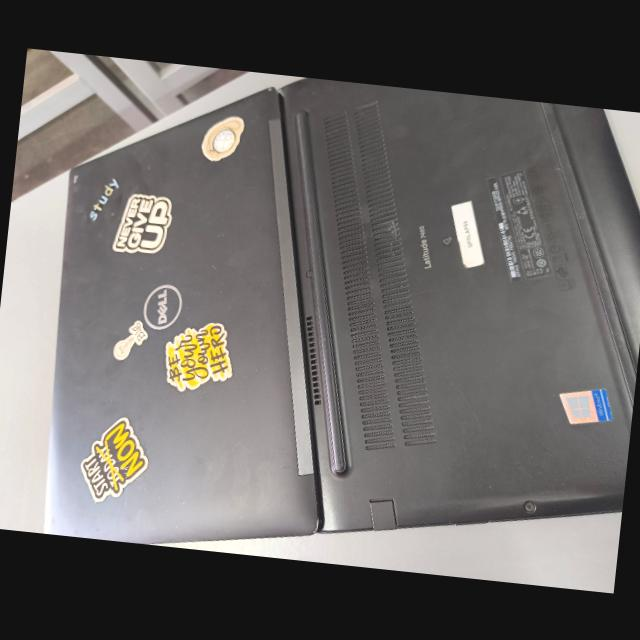laptop: (3, 49, 640, 584)
